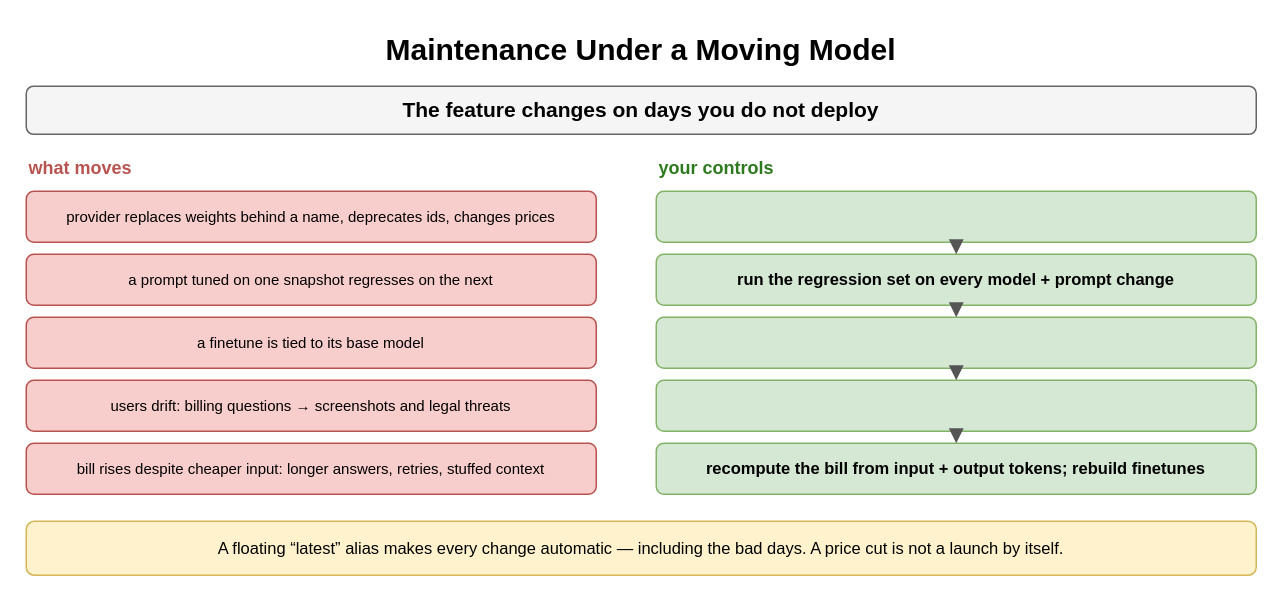
Some shapes in this 1283 by 602 pixel diagram are drawn without their labels. Each missing label, with the centre of its shape:
"miss the bar → roll back to the pinned previous id" belongs at (955,405).
"pin a model id" belongs at (955,216).
"watch faithfulness/acceptance, latency percentile, $ per success" belongs at (955,342).
